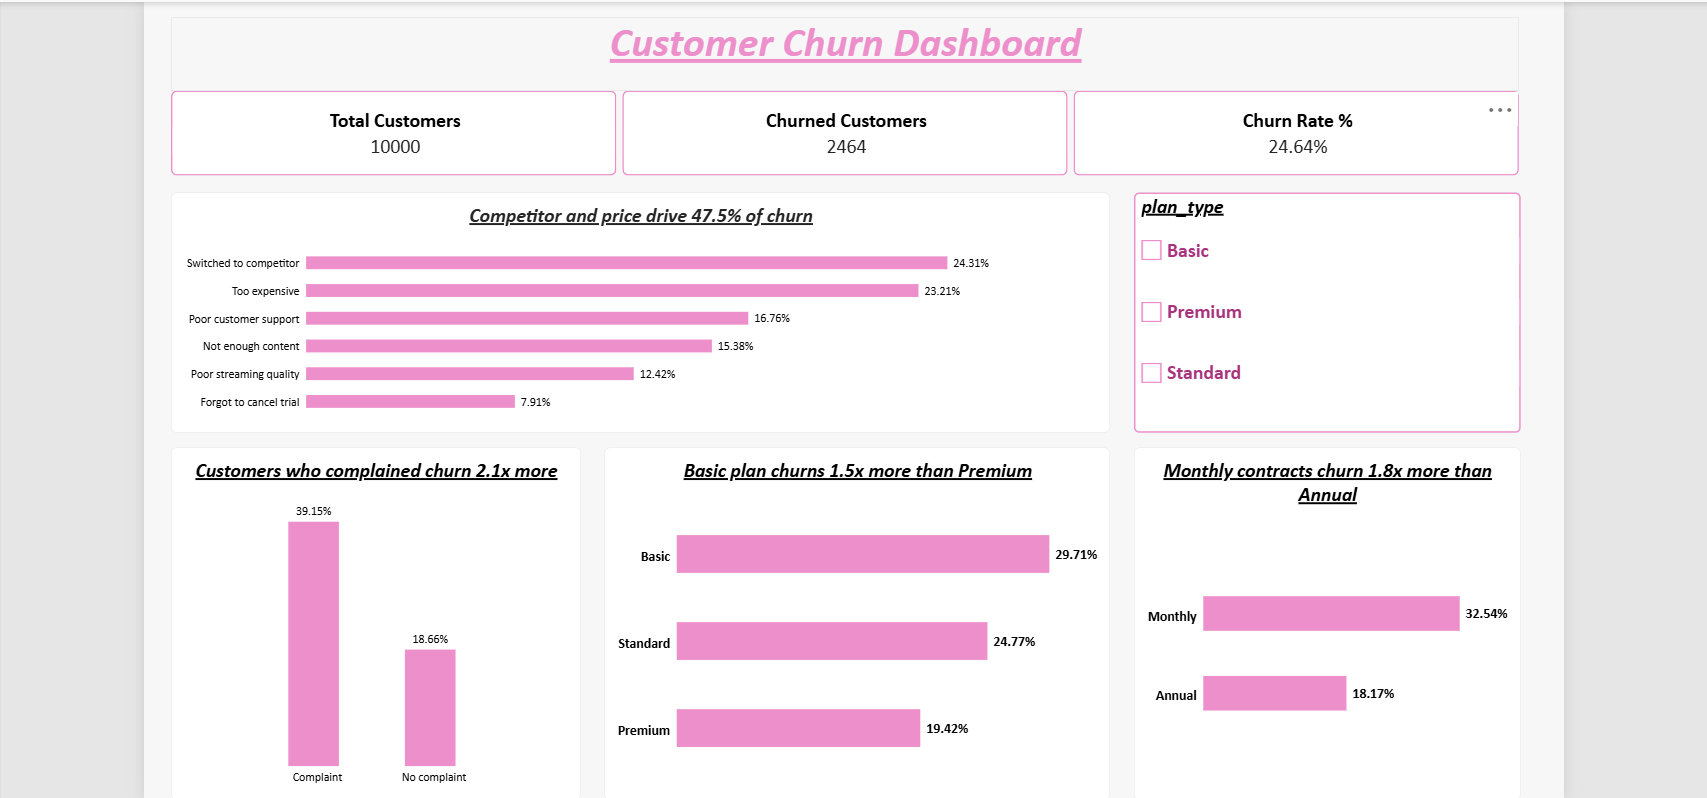

The page's visual inventory and layout, read from the dashboard file:
{"tool":"powerbi","page":{"name":"Page 1","canvas":[1920,1080],"ordinal":0},"visuals":[{"type":"cardVisual","fields":{"Data":["subscription_clean.Total Customers","subscription_clean.Churned Customers","subscription_clean.Churn Rate %"]},"box":[36.3,120.4,1823.9,115.8],"z":0},{"type":"clusteredBarChart","title":"Basic plan churns 1.5x more than Premium","fields":{"Category":["subscription_clean.plan_type"],"Y":["subscription_clean.Churn Rate %"]},"box":[622.3,601.9,683.7,477],"z":1000},{"type":"clusteredBarChart","title":"Monthly contracts churn 1.8x more than Annual","fields":{"Category":["subscription_clean.contract_type"],"Y":["subscription_clean.Churn Rate %"]},"box":[1337.8,601.9,522.4,477],"z":2000},{"type":"clusteredBarChart","title":"Competitor and price drive 47.5% of churn","fields":{"Category":["subscription_clean.cancellation_reason"],"Y":["subscription_clean.% of Churned"]},"box":[36.3,256.7,1269.7,324.8],"z":3000},{"type":"clusteredColumnChart","title":"Customers who complained churn 2.1x more","fields":{"Category":["subscription_clean.Has Complaint"],"Y":["subscription_clean.Churn Rate %"]},"box":[36.3,601.9,554.2,477],"z":4000},{"type":"textbox","box":[36.3,20.4,1823.9,99.9],"z":5000},{"type":"slicer","fields":{"Values":["subscription_clean.plan_type"]},"box":[1337.8,256.7,522.4,324.8],"z":6000}]}

Visuals, with their boxes on the page's 1920x1080 design canvas (x1, y1, x2, y2). These are canvas units, not pixel positions in the 1707x798 screenshot, which may show the page scaled, cropped or inside an application window:
cardVisual - subscription_clean.Total Customers x subscription_clean.Churned Customers: bbox=(36, 120, 1860, 236)
"Basic plan churns 1.5x more than Premium" clusteredBarChart: bbox=(622, 602, 1306, 1079)
"Monthly contracts churn 1.8x more than Annual" clusteredBarChart: bbox=(1338, 602, 1860, 1079)
"Competitor and price drive 47.5% of churn" clusteredBarChart: bbox=(36, 257, 1306, 582)
"Customers who complained churn 2.1x more" clusteredColumnChart: bbox=(36, 602, 590, 1079)
textbox: bbox=(36, 20, 1860, 120)
slicer - subscription_clean.plan_type: bbox=(1338, 257, 1860, 582)
